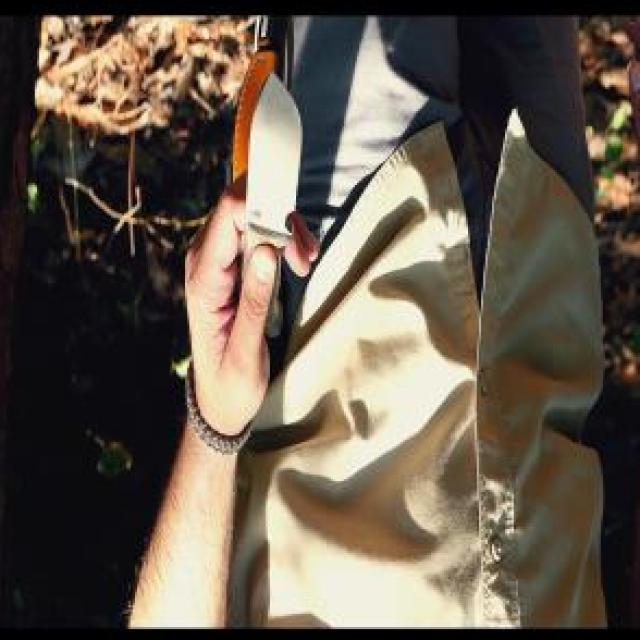knife: (203, 54, 321, 324)
